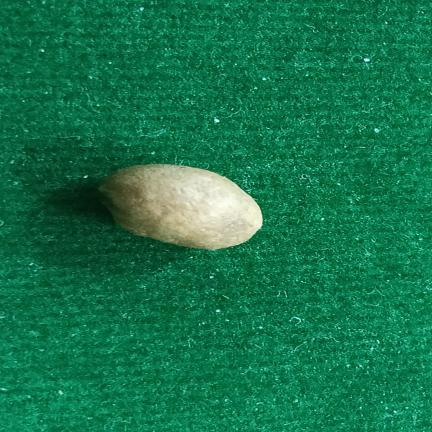cut: (99, 164, 263, 250)
